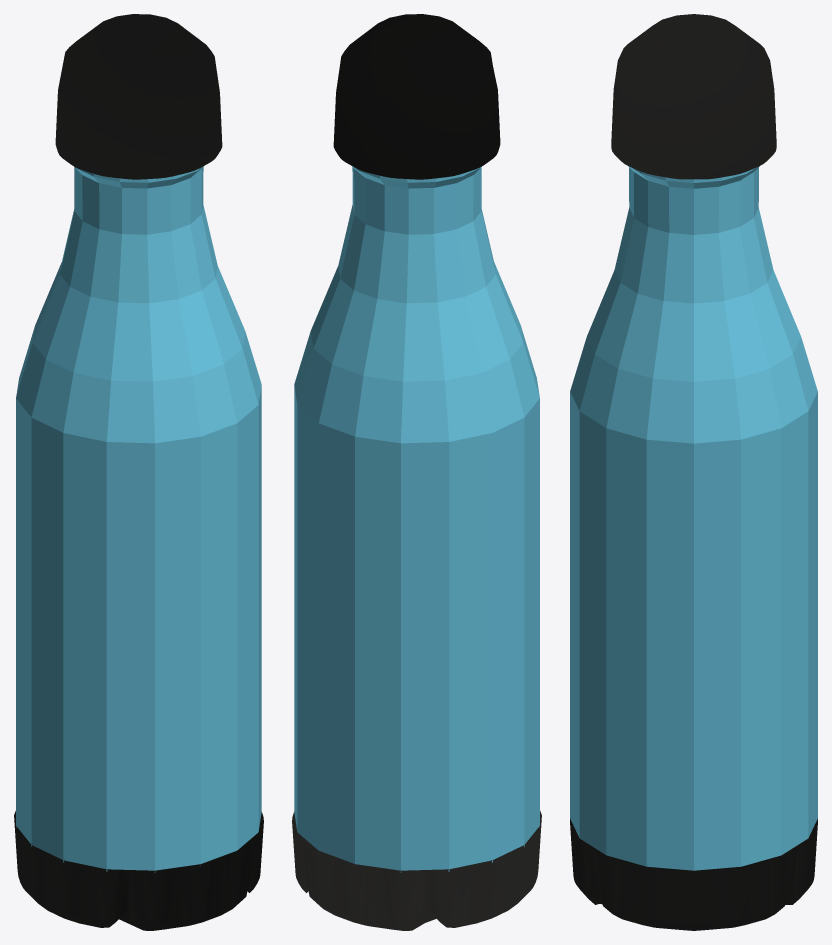
Rendered from WaterBottle.fbx.
3 views of the same model, side by side, from view 1: azimuth 30°, elevation 25°; view 2: azimuth 150°, elevation 25°; view 3: azimuth 270°, elevation 25° (orthographic).
Parts seen in each view (by area): view 1: Cylinder; view 2: Cylinder; view 3: Cylinder.
Boxes of the visible parts, x1,y1,x2,y2 form: Cylinder: (14, 14, 263, 930); Cylinder: (292, 14, 541, 930); Cylinder: (570, 14, 817, 930).
Bounding box in the file's own units: 18.17 × 69.09 × 18.17.
